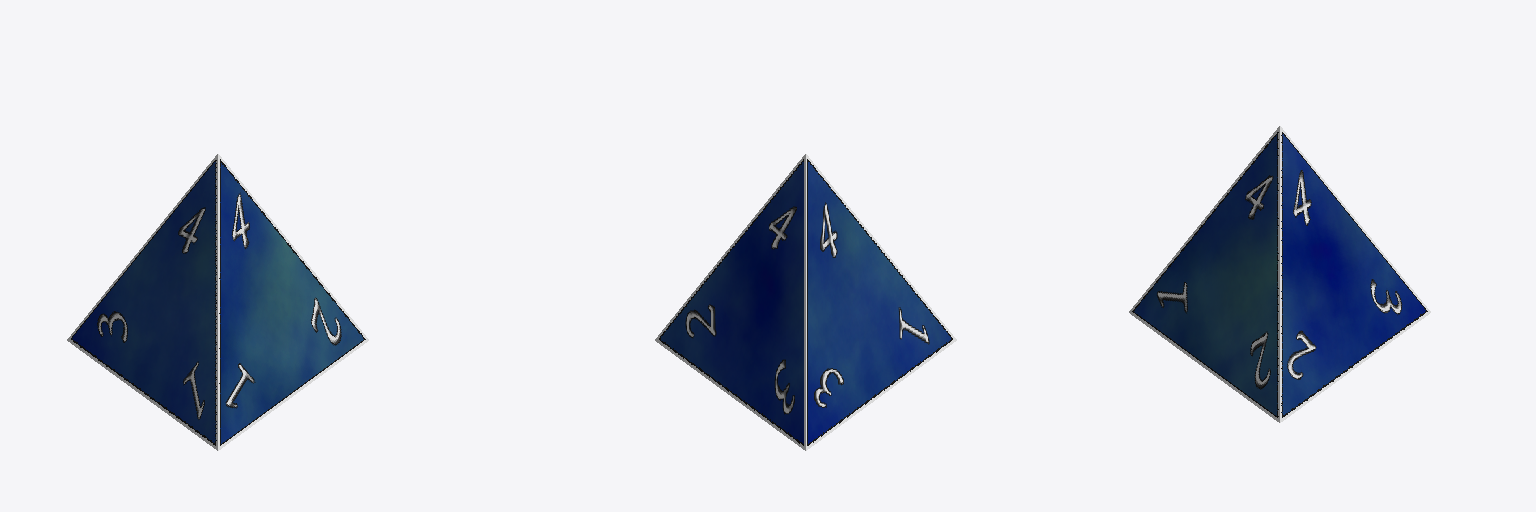
The picture shows the model from 3 angles: view 1: azimuth 30°, elevation 25°; view 2: azimuth 150°, elevation 25°; view 3: azimuth 270°, elevation 25°; orthographic projection.
Parts seen in each view (by area): view 1: Solid; view 2: Solid; view 3: Solid.
Part boxes in pixels (x1,y1,x2,y2): Solid: (67,154,368,450); Solid: (655,154,956,450); Solid: (1129,126,1430,422).
Bounding box in the file's own units: 0.5062 × 0.4773 × 0.5846.
Materials: 1 (1 with a texture image).